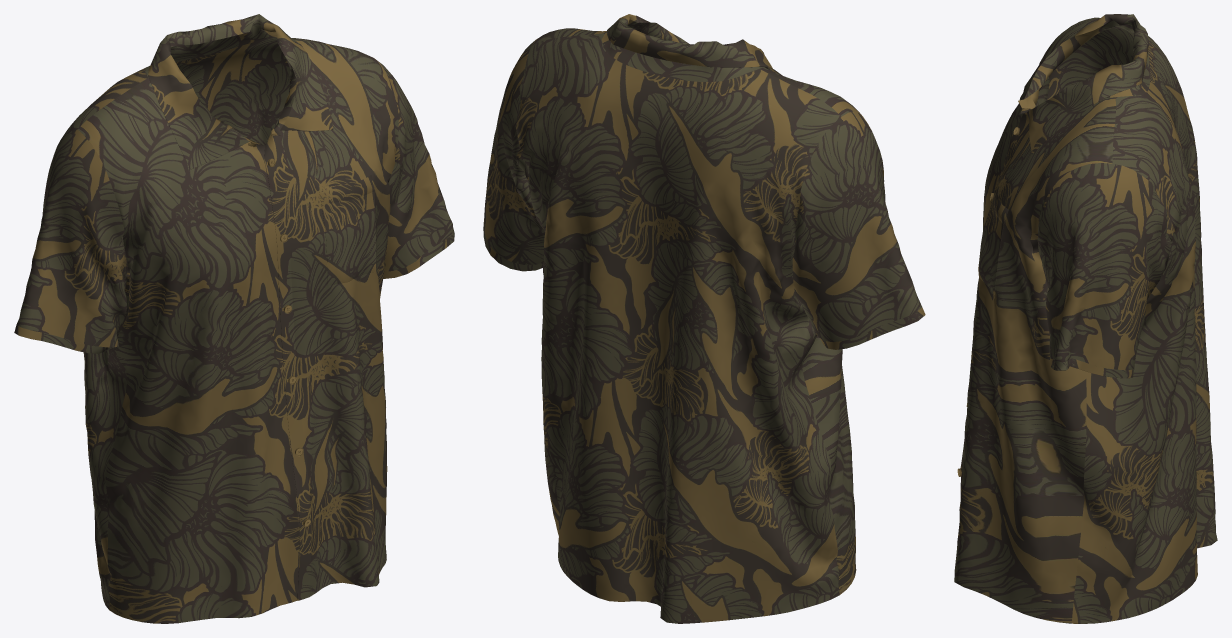
The model's file is forest-stripes.glb.
3 renders of one model, left to right at view 1: azimuth 30°, elevation 25°; view 2: azimuth 150°, elevation 25°; view 3: azimuth 270°, elevation 25°, orthographic. The views are drawn at different scales.
Visible parts, largest first — view 1: Object_6, Object_13, Object_3, Object_5, Object_12, Object_4, Object_11, Object_8, Object_7; view 2: Object_3, Object_13, Object_6, Object_12, Object_5, Object_8; view 3: Object_3, Object_6, Object_12, Object_5, Object_13, Object_11, Object_7, Object_4.
Boxes of the visible parts, x1,y1,x2,y2 form: Object_6: [78, 40, 398, 623]; Object_13: [16, 127, 128, 347]; Object_3: [67, 37, 331, 609]; Object_5: [144, 14, 333, 169]; Object_12: [375, 59, 452, 271]; Object_4: [245, 124, 311, 600]; Object_11: [319, 175, 376, 285]; Object_8: [14, 325, 111, 353]; Object_7: [383, 227, 454, 278]; Object_3: [515, 33, 840, 623]; Object_13: [792, 111, 921, 342]; Object_6: [532, 28, 861, 594]; Object_12: [483, 40, 544, 264]; Object_5: [602, 14, 782, 81]; Object_8: [820, 307, 925, 349]; Object_3: [1071, 30, 1217, 623]; Object_6: [954, 17, 1116, 623]; Object_12: [1037, 163, 1171, 370]; Object_5: [1024, 14, 1150, 154]; Object_13: [1037, 28, 1133, 104]; Object_11: [978, 180, 1008, 298]; Object_7: [1050, 358, 1134, 378]; Object_4: [960, 96, 1035, 479].
Size of the model in its own units: 0.589 by 0.7019 by 0.3166.
Materials: 2 (1 with a texture image).
